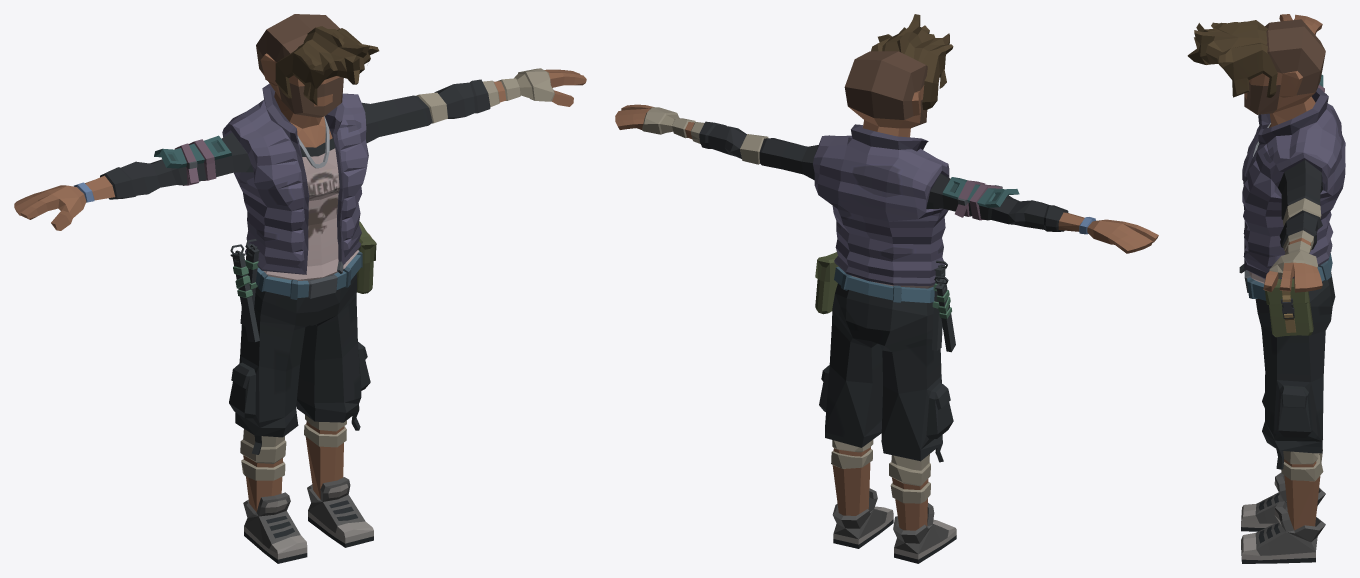
Rendered from Running-boy.glb.
3 views of the same model, side by side, from view 1: azimuth 30°, elevation 25°; view 2: azimuth 150°, elevation 25°; view 3: azimuth 270°, elevation 25° (orthographic). The views are drawn at different scales.
Visible parts, largest first — view 1: SM_Chr_Cool_Male_01_1, SM_Chr_Attach_Cool_Male_Hair_01, SM_Chr_Attach_Mags_03, SM_Chr_Attach_Pouch_02; view 2: SM_Chr_Cool_Male_01_1, SM_Chr_Attach_Cool_Male_Hair_01, SM_Chr_Attach_Mags_03, SM_Chr_Attach_Pouch_02; view 3: SM_Chr_Cool_Male_01_1, SM_Chr_Attach_Cool_Male_Hair_01, SM_Chr_Attach_Pouch_02.
Boxes of the visible parts, bbox=[...] form: SM_Chr_Cool_Male_01_1: bbox=[14, 14, 586, 563]; SM_Chr_Attach_Cool_Male_Hair_01: bbox=[275, 26, 379, 105]; SM_Chr_Attach_Mags_03: bbox=[230, 239, 259, 342]; SM_Chr_Attach_Pouch_02: bbox=[356, 221, 376, 293]; SM_Chr_Cool_Male_01_1: bbox=[615, 51, 1158, 563]; SM_Chr_Attach_Cool_Male_Hair_01: bbox=[871, 14, 953, 110]; SM_Chr_Attach_Mags_03: bbox=[932, 260, 955, 352]; SM_Chr_Attach_Pouch_02: bbox=[815, 252, 838, 314]; SM_Chr_Cool_Male_01_1: bbox=[1239, 14, 1345, 563]; SM_Chr_Attach_Cool_Male_Hair_01: bbox=[1187, 20, 1277, 97]; SM_Chr_Attach_Pouch_02: bbox=[1265, 278, 1313, 337].
Bounding box in the file's own units: 2.05 × 1.81 × 0.499.
2 materials, 2 textured.
